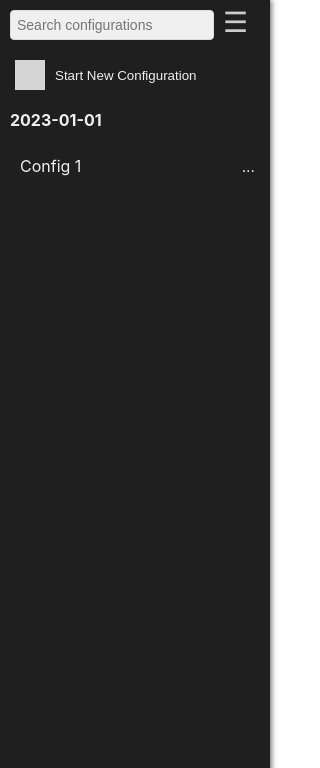
Scenario: CompressionSidebarPanel › displays fallback when no keyword matches (1.2.6)
Type "notfound" into the field with placeholder "Search configurations".
click(112, 25); type("notfound")  # box [10, 10, 214, 40]
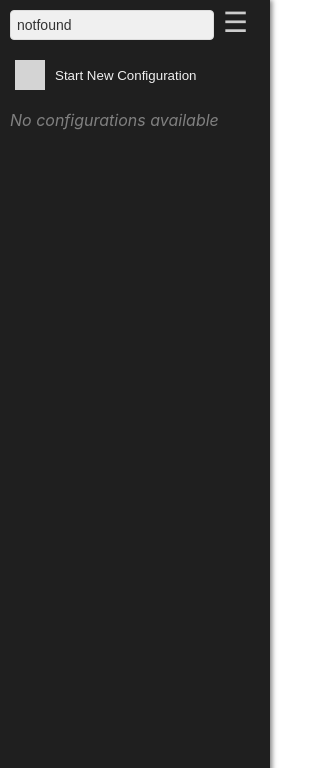
Result: the text "No configurations available" is shown at [10, 110, 219, 130]
